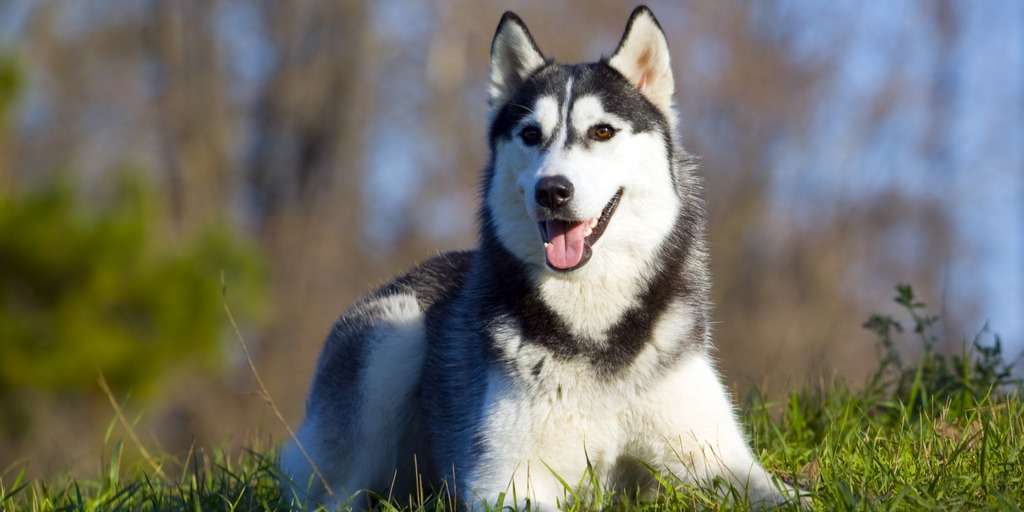husky: (429, 6, 707, 502)
